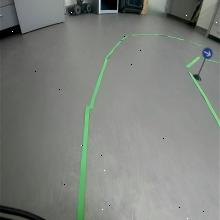right: (202, 46, 213, 60)
